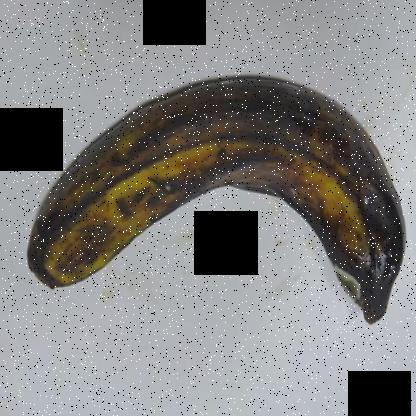rotten: (19, 49, 415, 376)
